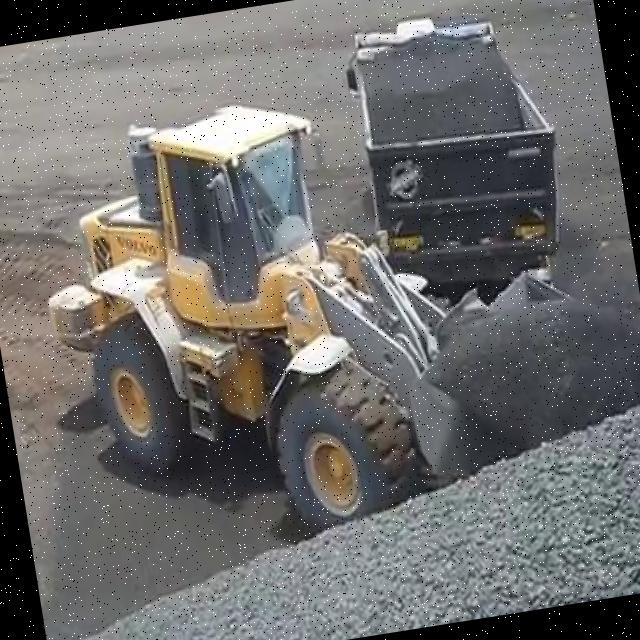Dump Truck: (330, 0, 576, 286)
Loader: (17, 36, 640, 573)
